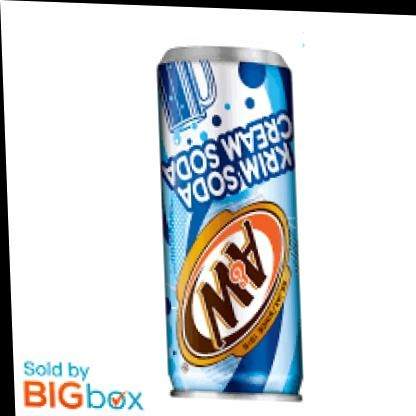trash: (158, 47, 301, 396)
